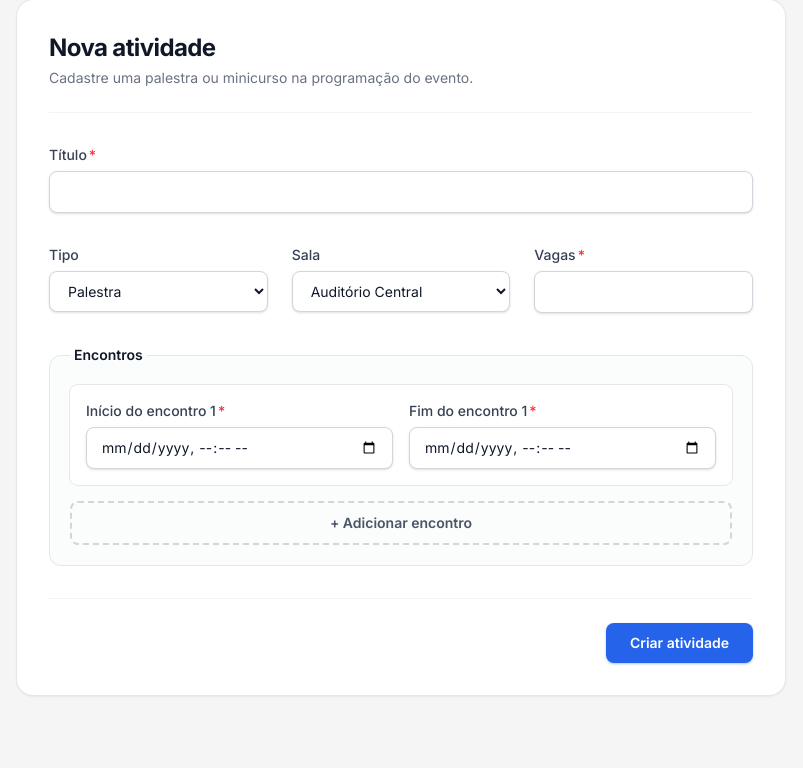
Scenario: FormularioAtividade › mostra o código de erro em encontro inválido
In the field labelled "Título": {"x": 401, "y": 192} [49,171,753,213], type "IA hoje"
Select "Palestra" in the dropdown labelled "Tipo": {"x": 158, "y": 292} [49,271,268,312]
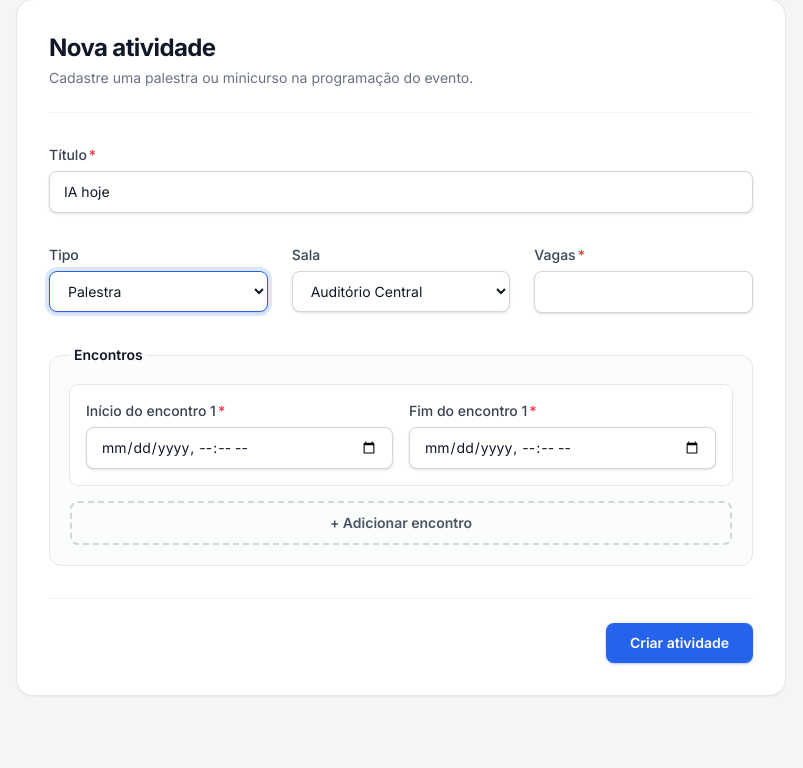
Select "Sala 101" in the dropdown labelled "Sala": {"x": 401, "y": 292} [292,271,510,312]
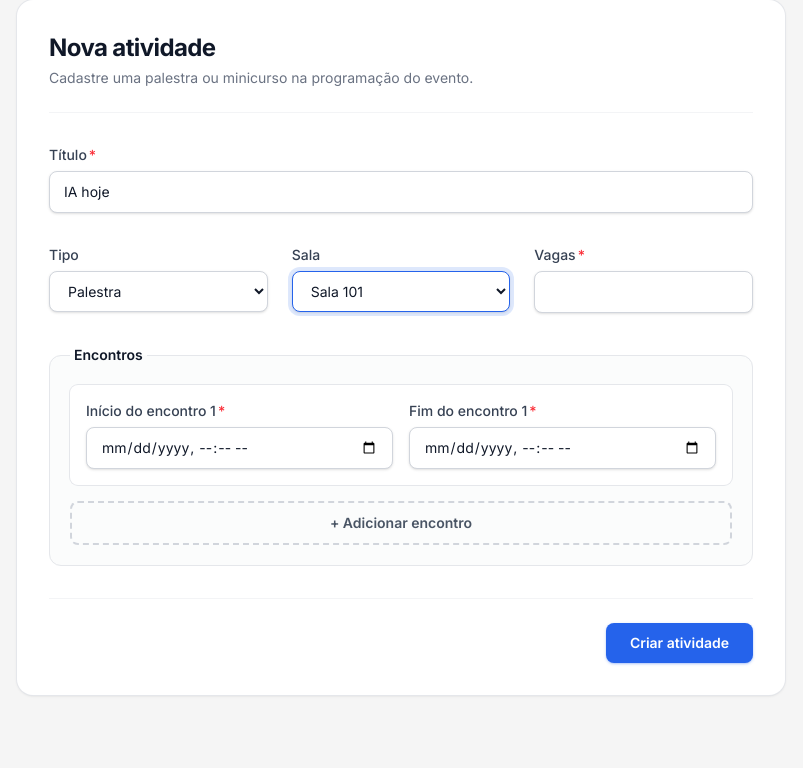
In the number field labelled "Vagas": {"x": 644, "y": 292} [534,271,753,313], type "40"
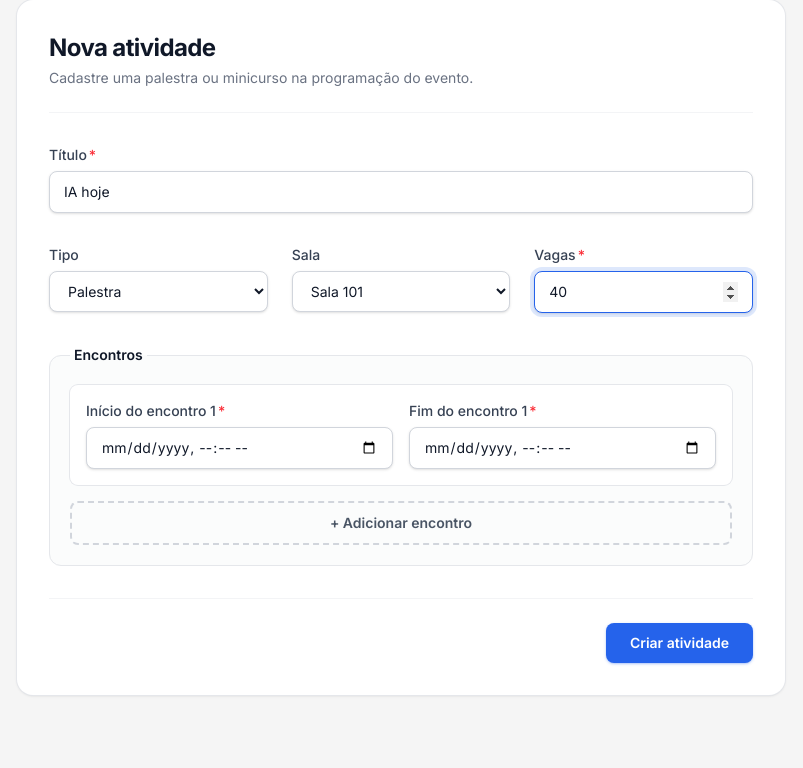
In the field labelled "Início do encontro 1": {"x": 240, "y": 448} [86,427,393,469], type "2026-10-19T19:00"
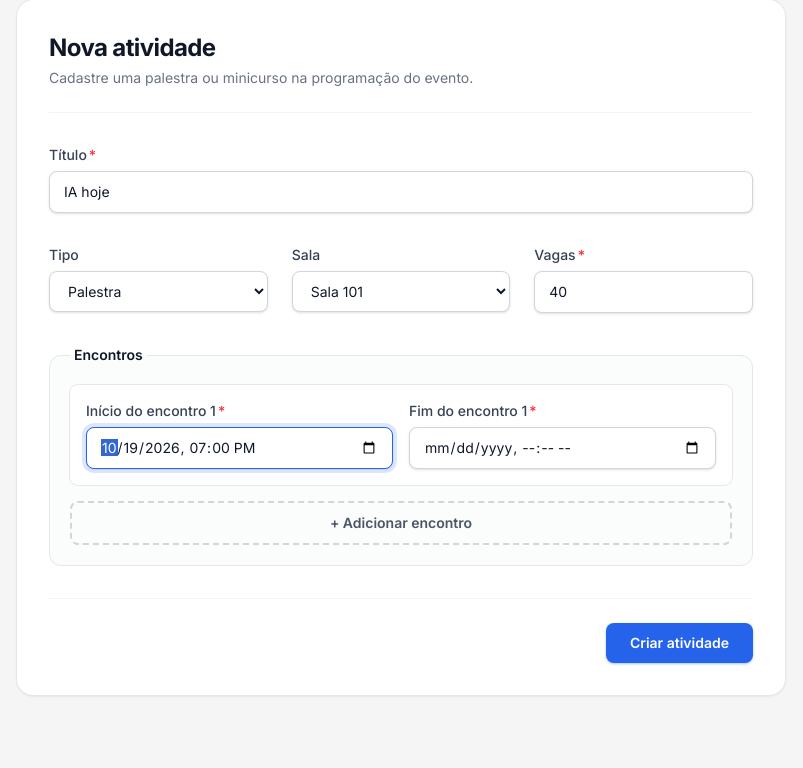
In the field labelled "Fim do encontro 1": {"x": 562, "y": 448} [409,427,716,469], type "2026-10-19T21:00"
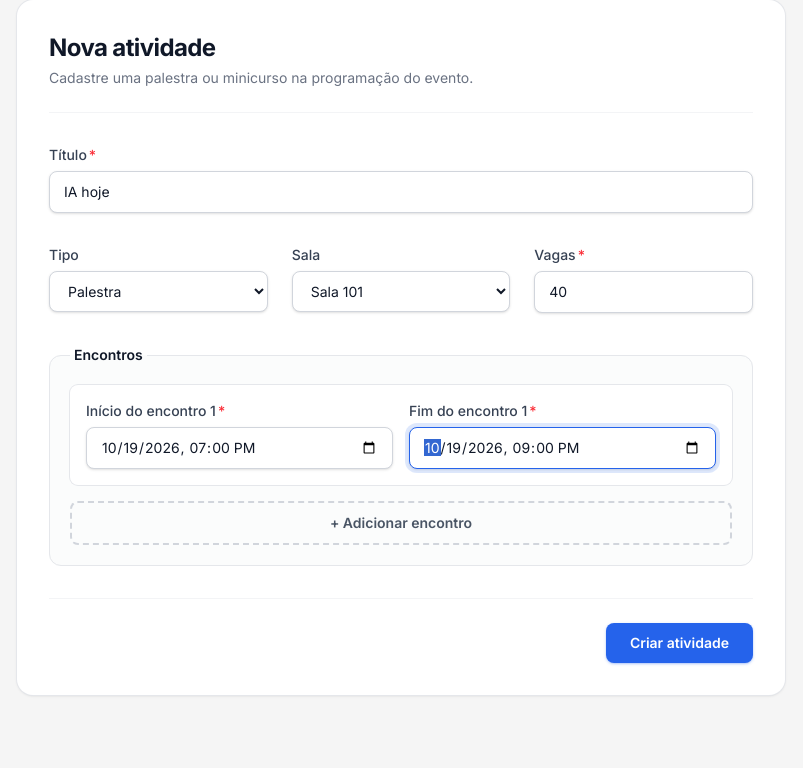
Click the button "Criar atividade": {"x": 679, "y": 643} [606,623,753,663]
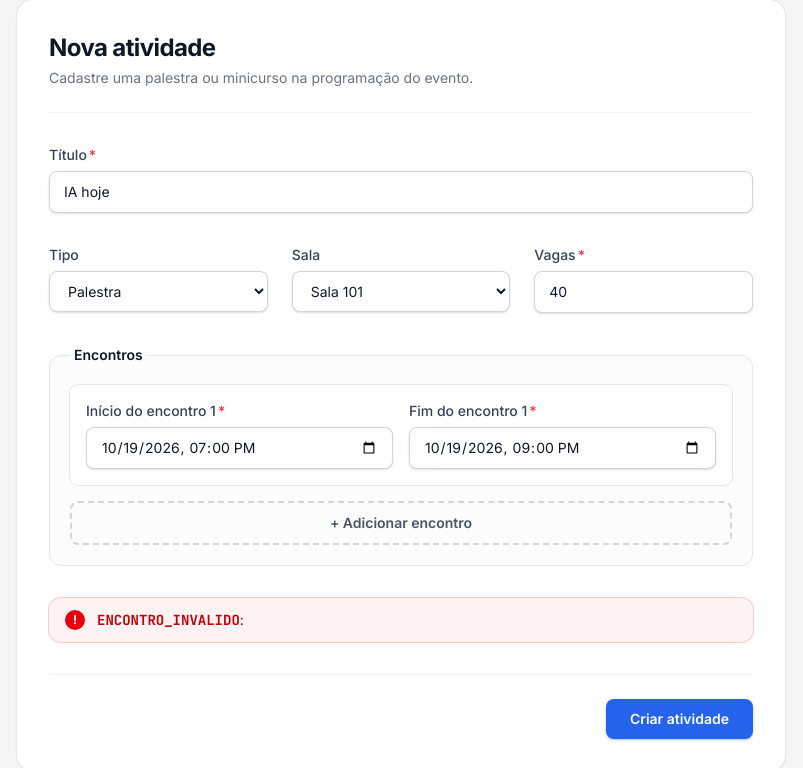
Now the message shows "ENCONTRO_INVALIDO", box [97,611,240,629]
